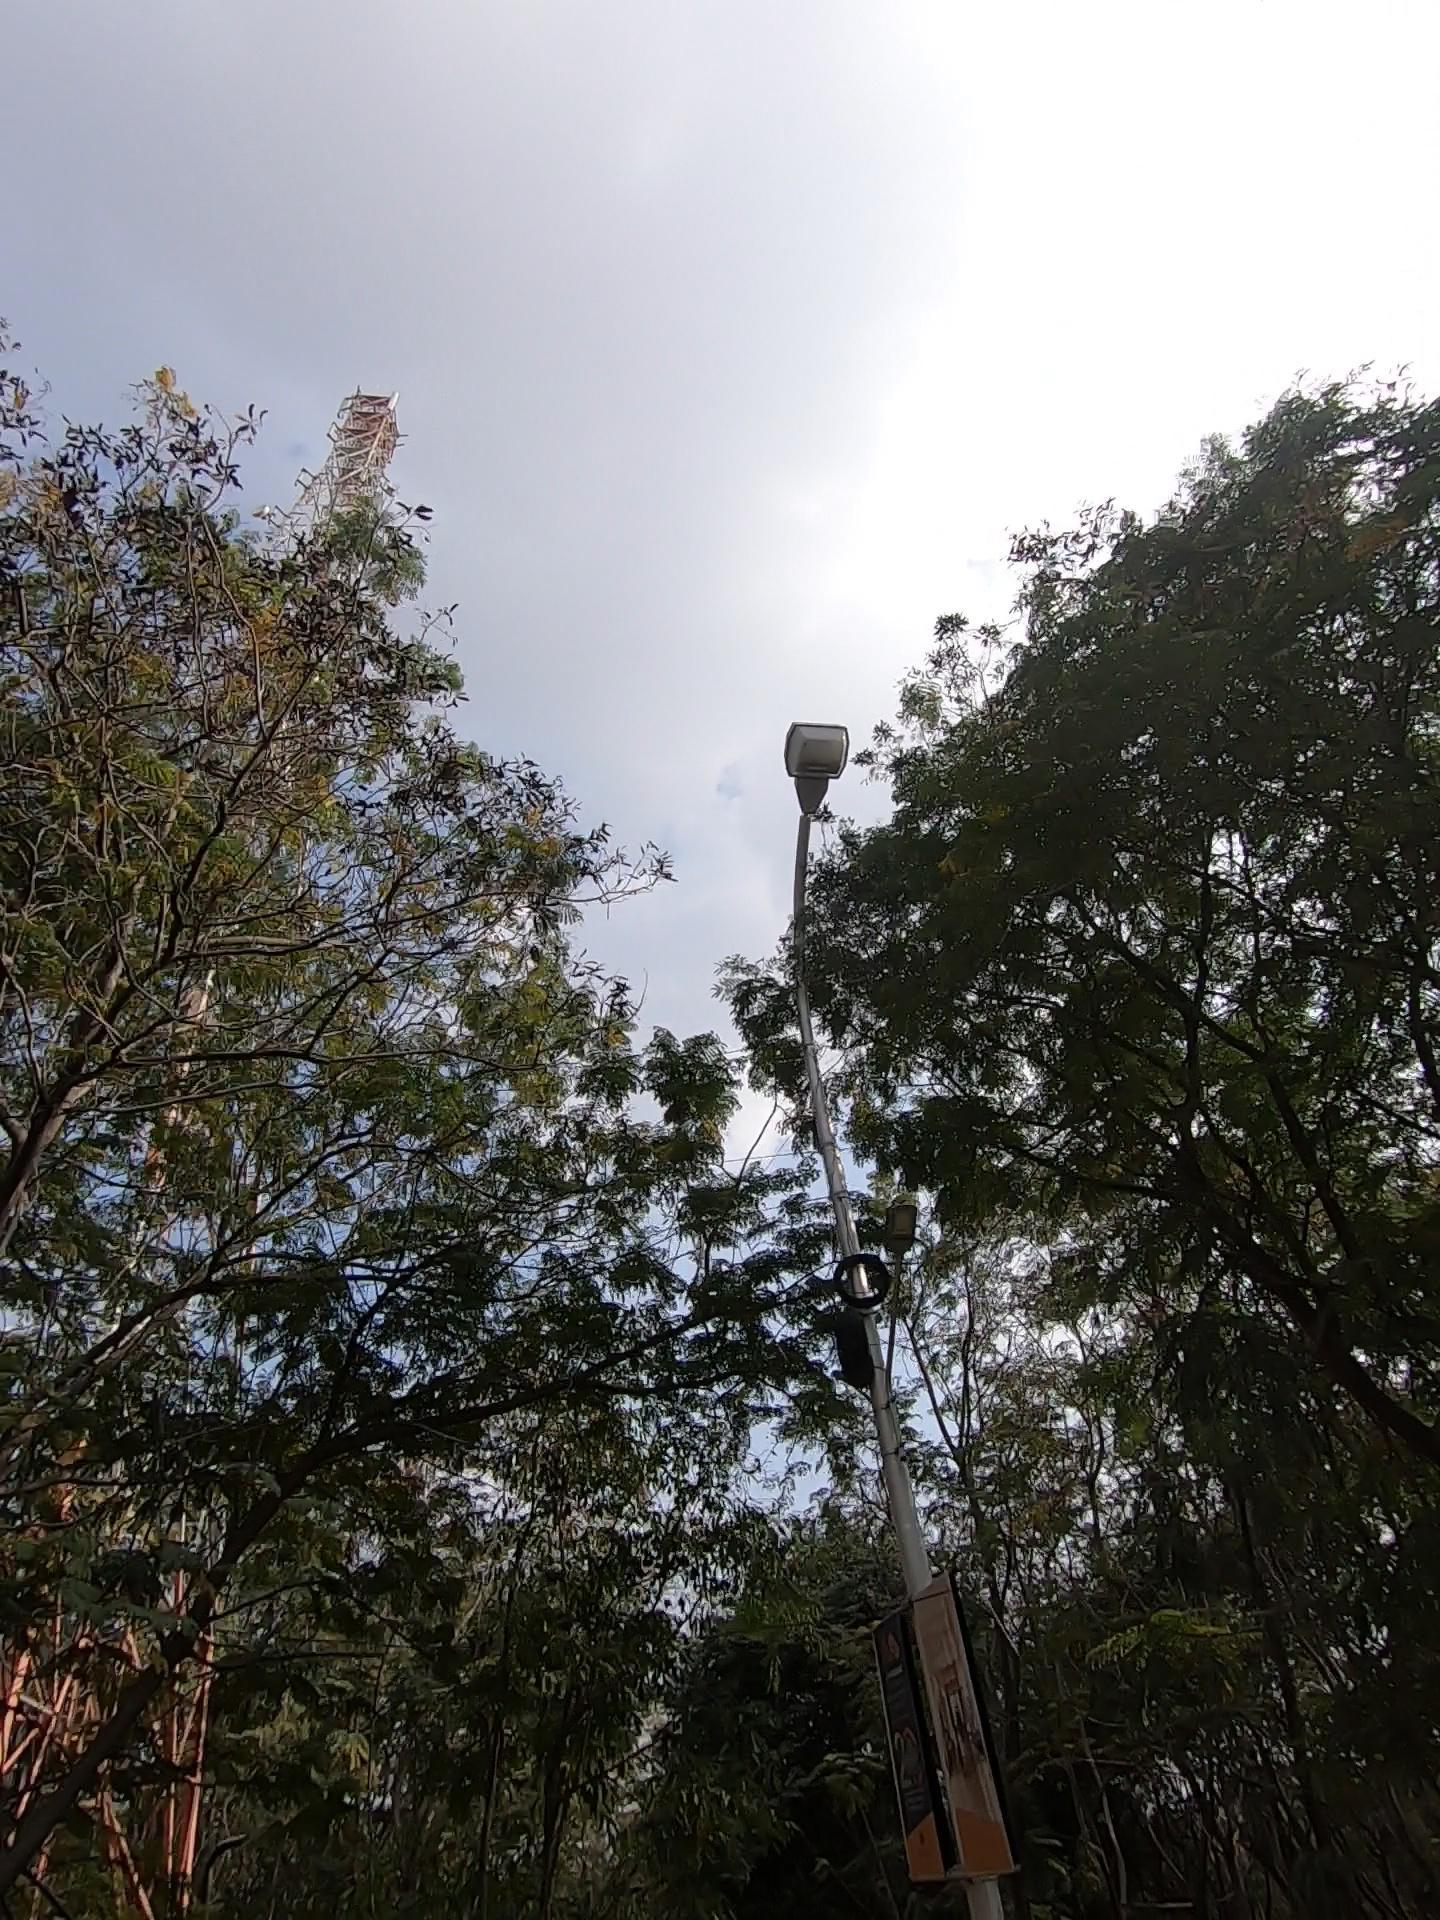off: (725, 611, 979, 1211)
